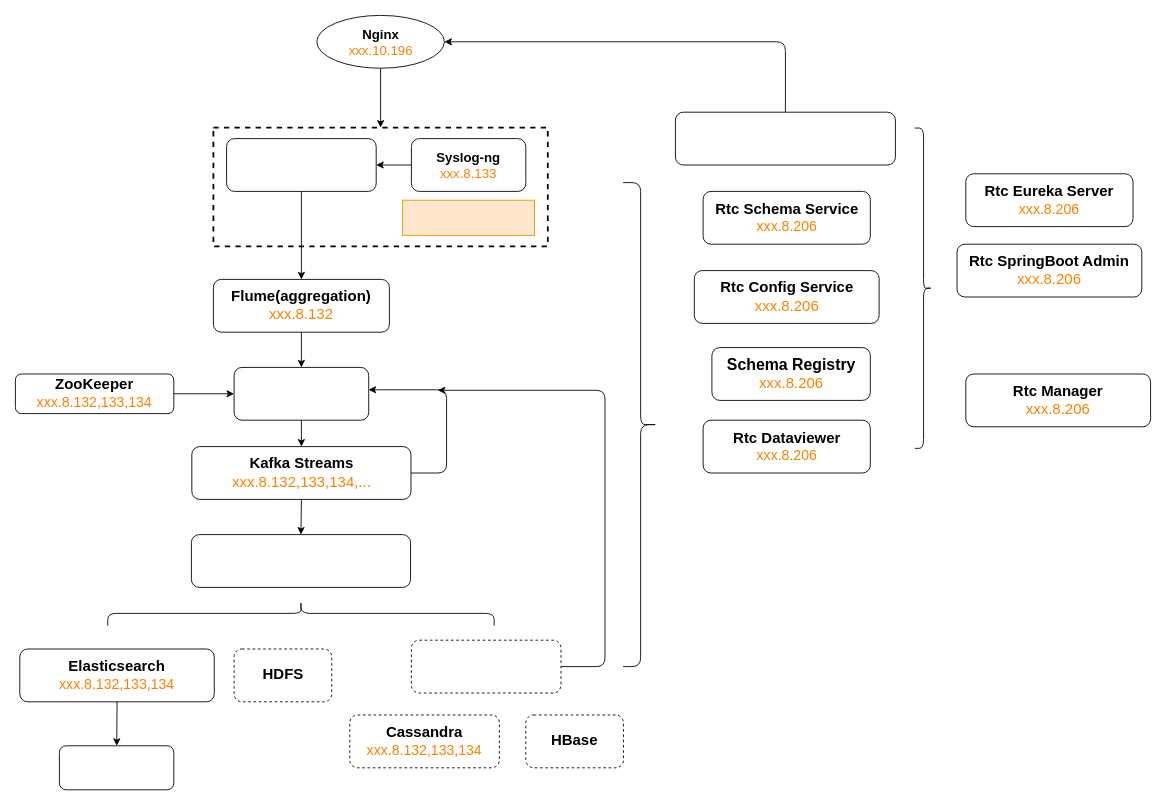
The diagram is 1166 pixels wide and 805 high, and some of its shapes have lost their labels. Here are the shapes that lost their labels. From the top down, the centre of each, then its label:
At pixel 785 138: "Rtc DatareceiveAuth Service xxx.8.206".
At pixel 301 164: "Flume( collection ) xxx.8.133".
At pixel 468 217: "转发UDP至flume tcp".
At pixel 301 393: "Kafka Cluster xxx.8.132,133,134".
At pixel 301 560: "Bridge Component xxx.8.206".
At pixel 486 666: "Presto xxx.8.132,133,134".
At pixel 116 767: "Kibana xxx.8.134".
